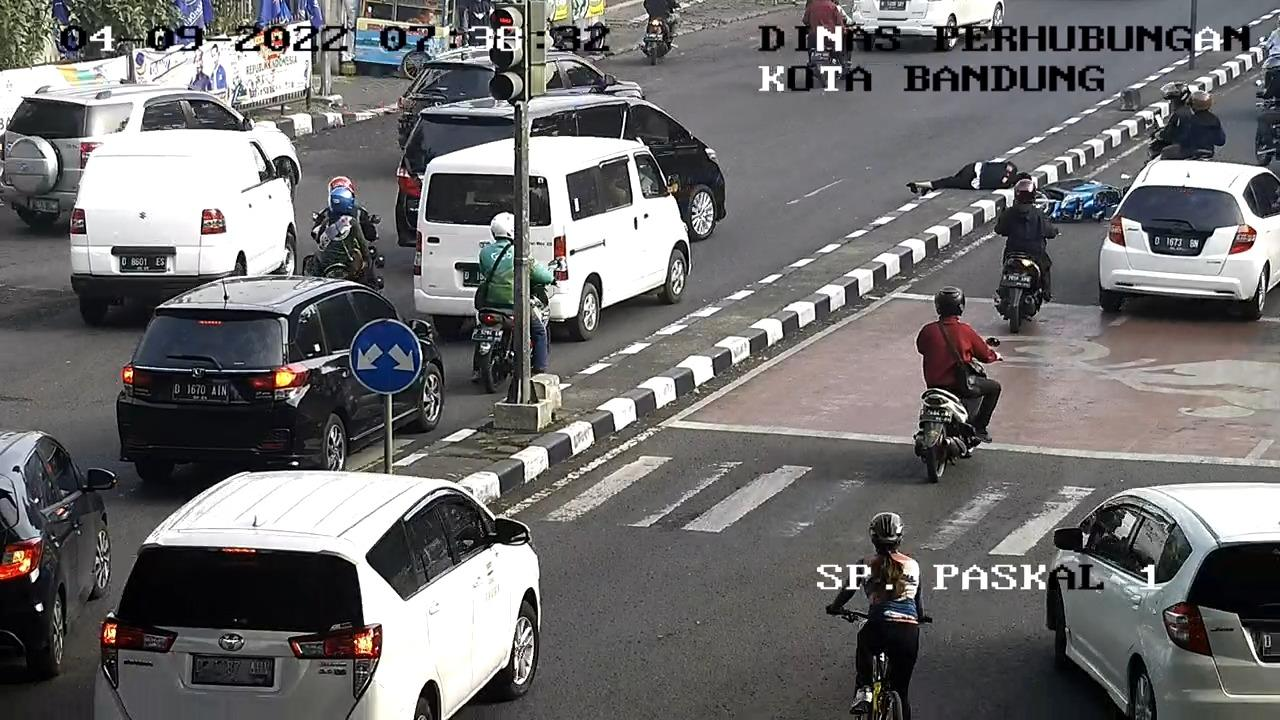accident: (903, 140, 1032, 201)
